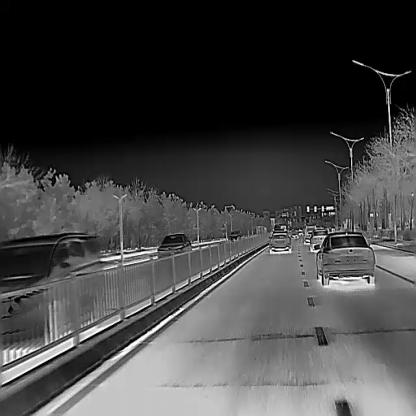bus: (273, 222, 286, 231)
car: (0, 231, 99, 344), (315, 230, 375, 285), (156, 231, 191, 264), (268, 230, 292, 253), (309, 228, 328, 252), (303, 224, 316, 244), (227, 228, 241, 243), (288, 225, 298, 238), (296, 227, 303, 235)
